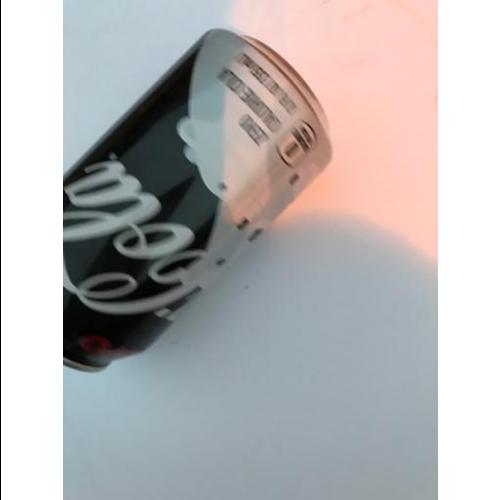metal: (61, 28, 333, 372)
